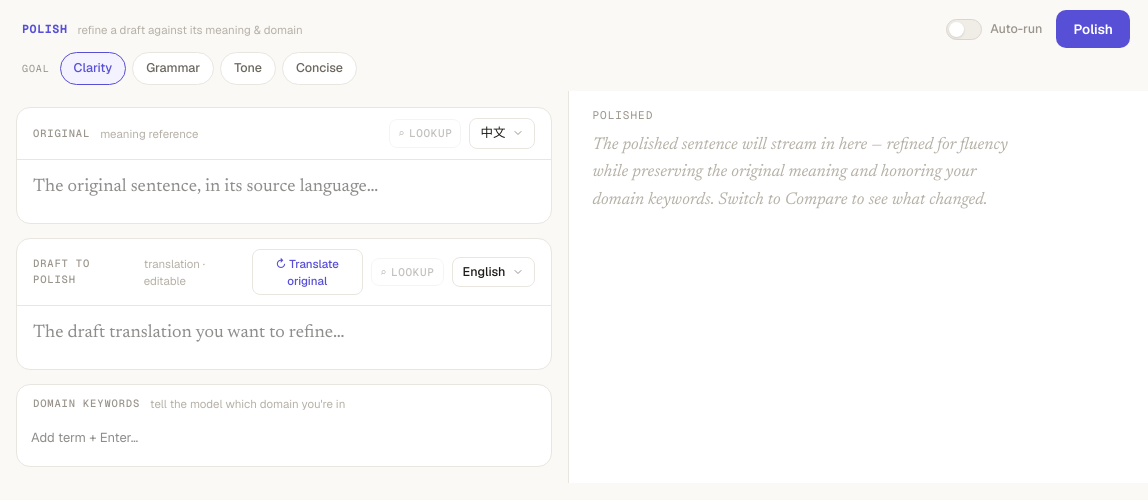
Test: PolishPanel › a keyword change resets a showing polish result
Type "rough draft text" into the text box named "Draft to polish". click: (189, 334)
box: [17, 306, 360, 362]
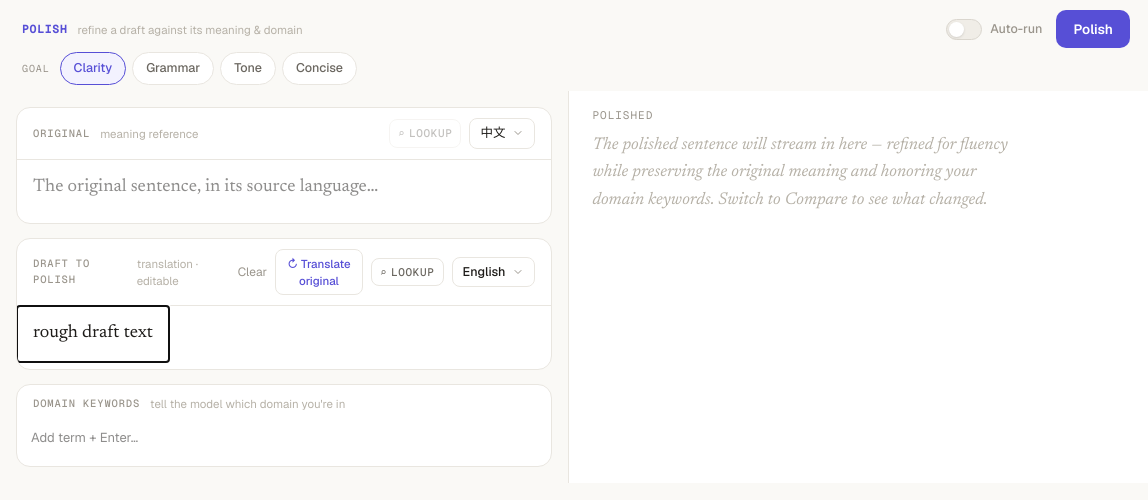
Click the button "Polish". click: click(1093, 29)
box: [1056, 10, 1130, 48]
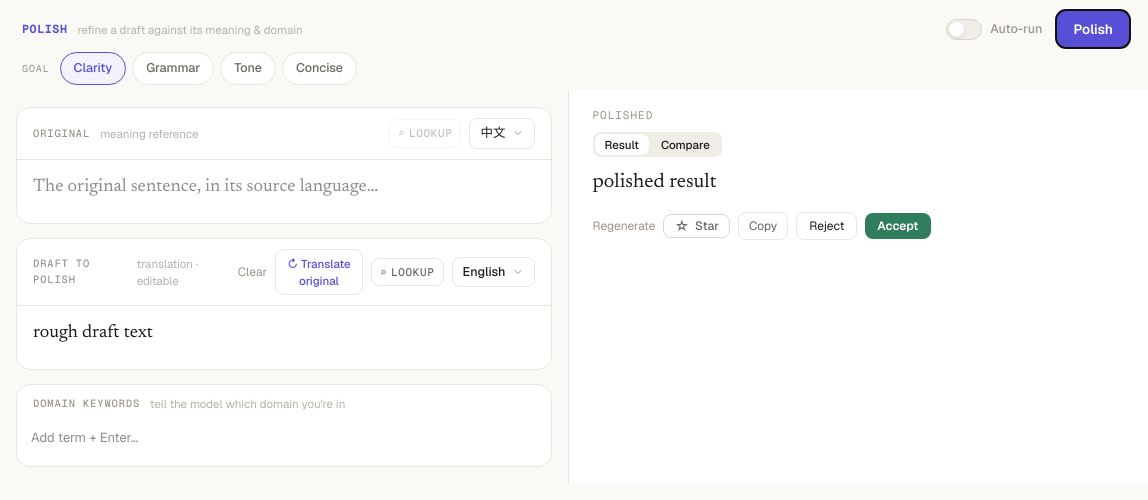
Result: the button "result" is shown at [669, 172, 716, 192]
Type "inference" into the field named "add keyword". click: (284, 437)
box: [31, 422, 536, 452]
Then press Enter
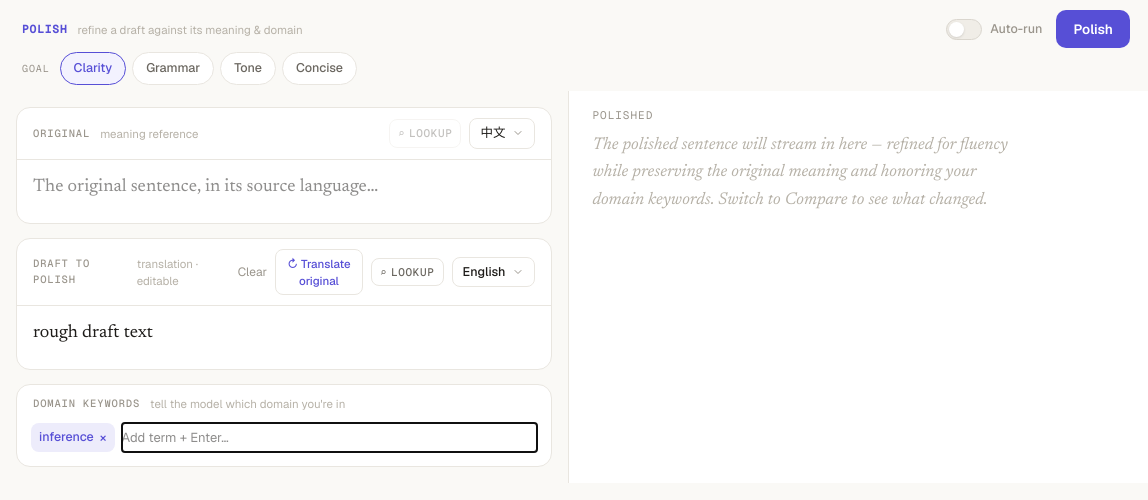
Result: the button "Result" is gone
